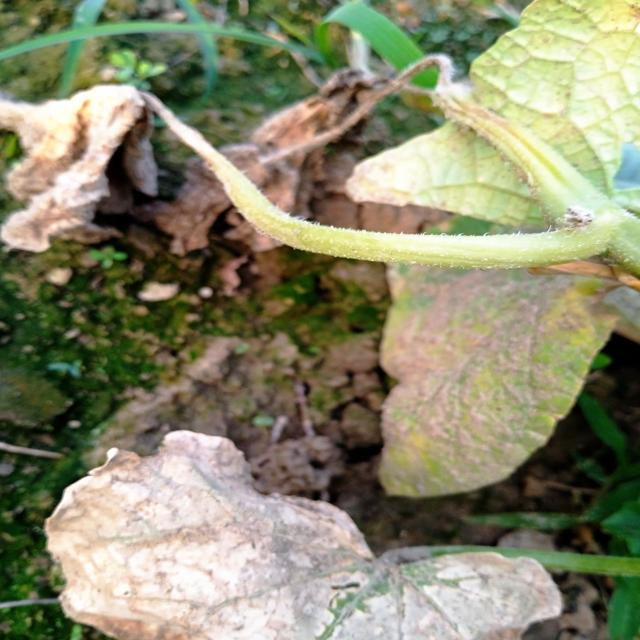Bacterial-Wilt: (41, 422, 567, 640), (1, 81, 160, 252)
